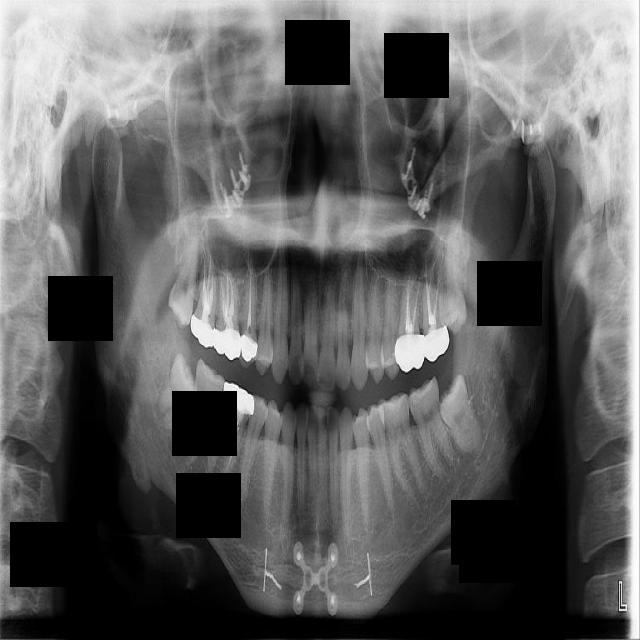3M ESPE Implant: (165, 235, 203, 330)
52: (210, 378, 263, 428), (391, 328, 431, 374), (416, 325, 457, 364), (209, 322, 245, 361), (189, 308, 217, 348), (236, 334, 259, 368)
73: (201, 414, 246, 489), (393, 255, 422, 332), (195, 243, 224, 314), (417, 255, 444, 330), (213, 266, 239, 319), (580, 572, 583, 580)
BioHorizons Implant: (417, 240, 449, 361)
BioLife Implant: (438, 216, 466, 334)
Biomet 3i Implant: (430, 370, 487, 458)
Blue Sky Bio Implant: (403, 375, 457, 479)
Caries: (189, 245, 220, 349)
Implant: (176, 357, 229, 464)
Keystone Dental Implant: (149, 351, 209, 436)
